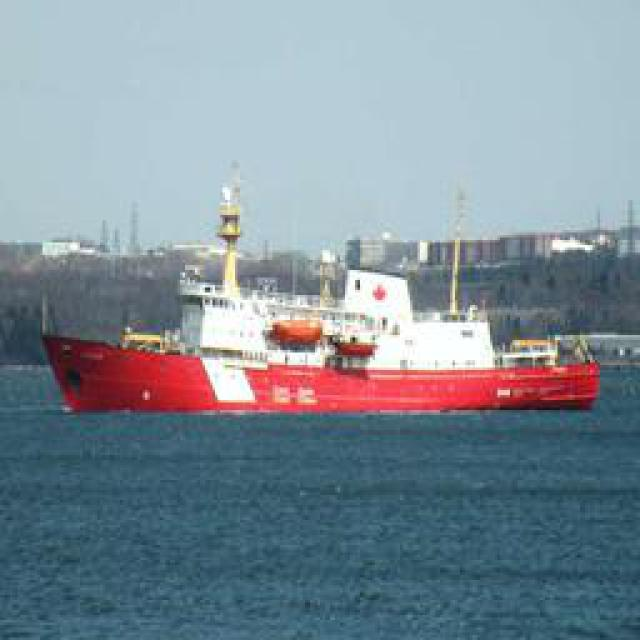Ship: (37, 256, 600, 416)
